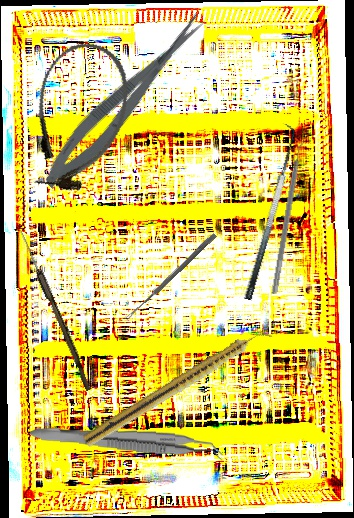Cannula: (14, 32, 142, 202)
Handpiece: (81, 322, 274, 452)
Micro Scissor: (33, 7, 217, 196)
Spatula Surgical: (229, 122, 306, 302), (271, 137, 309, 296)
Surgical Spoon: (16, 229, 95, 392), (124, 232, 217, 322)
Tissue Forceps: (29, 424, 225, 462)
